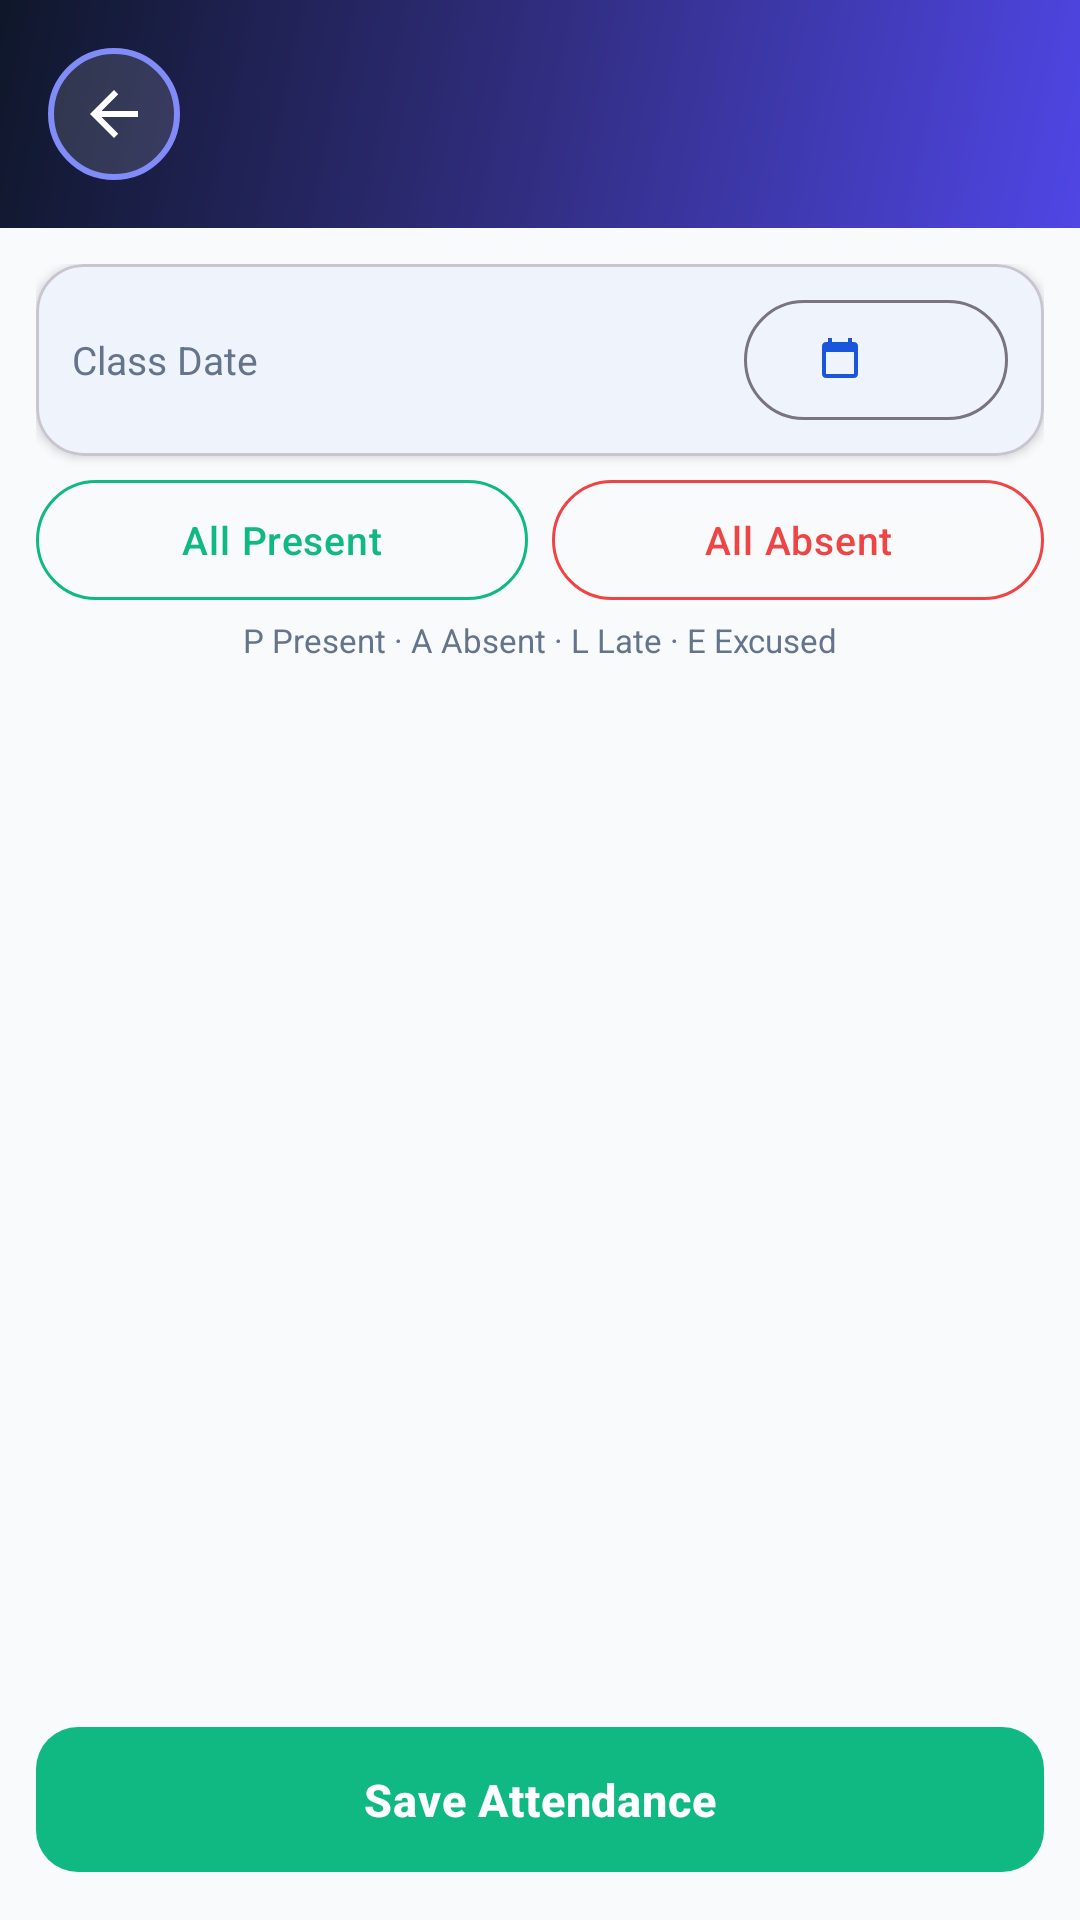

Named icons in this screenshot (1080×1920) and their centers, (x=x, y=y):
calendar: (x=876, y=360)
